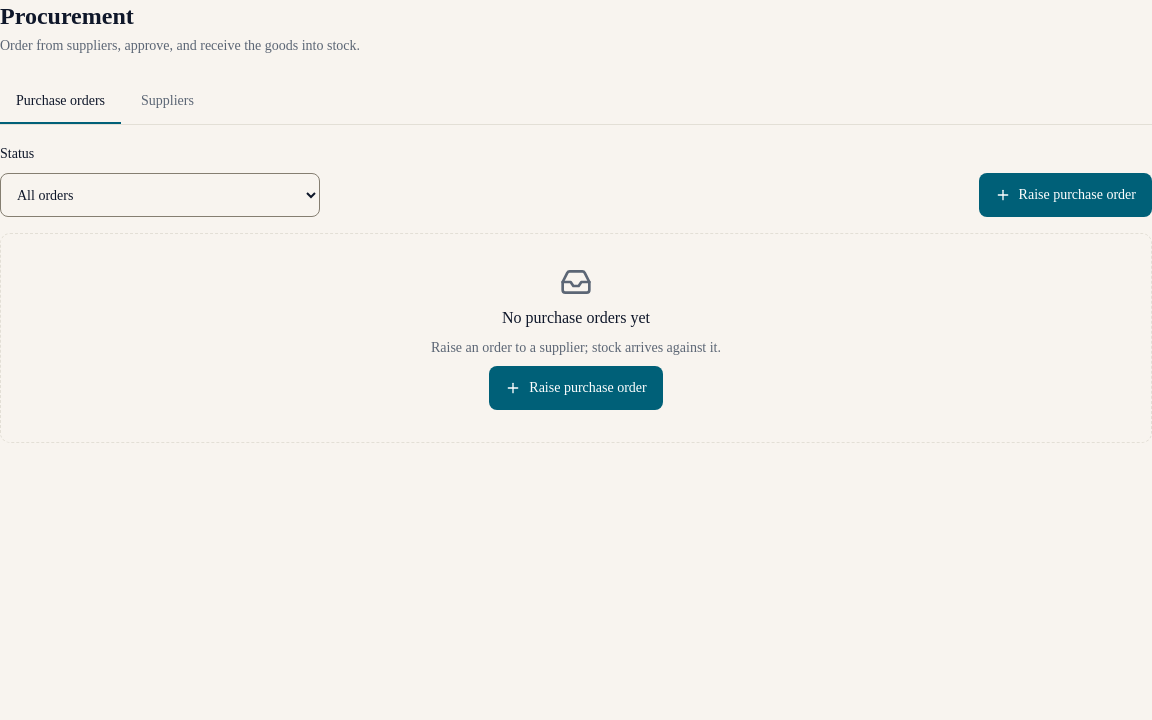
a purchase order, end to end › a supplier can be added from the order form, and is chosen
Click the 1st button "Raise purchase order".
click(1065, 195)  # box [979, 173, 1151, 217]
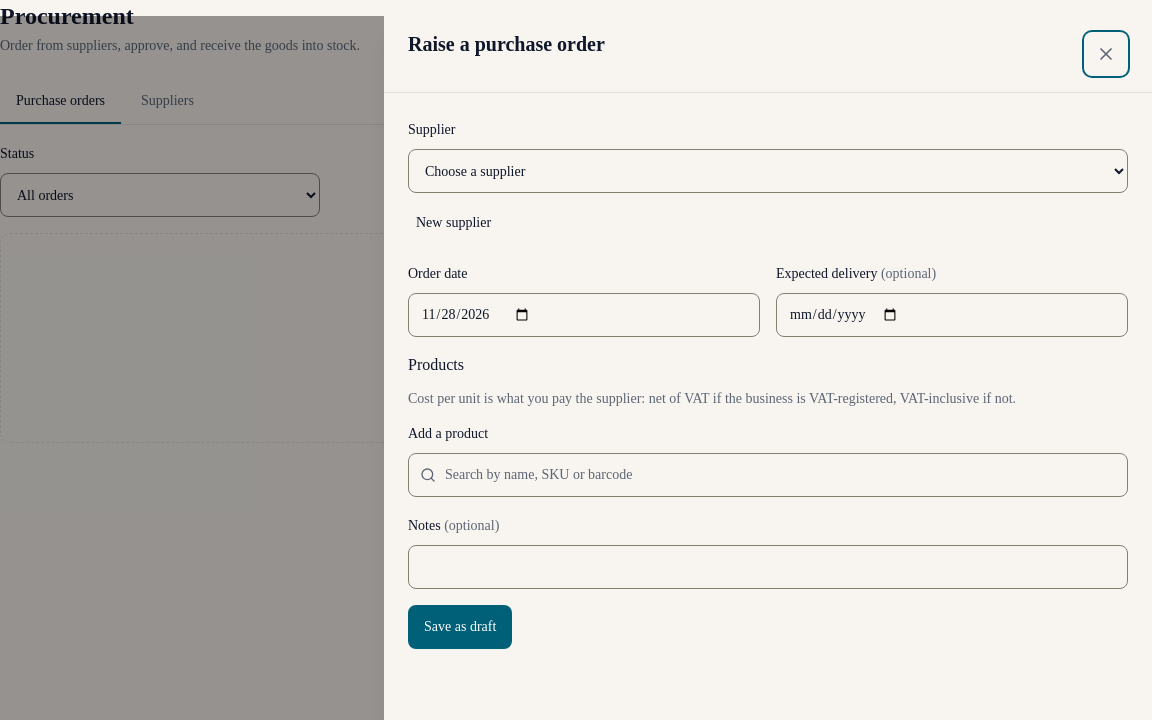
Click the button "New supplier".
click(454, 223)  # box [408, 201, 499, 245]
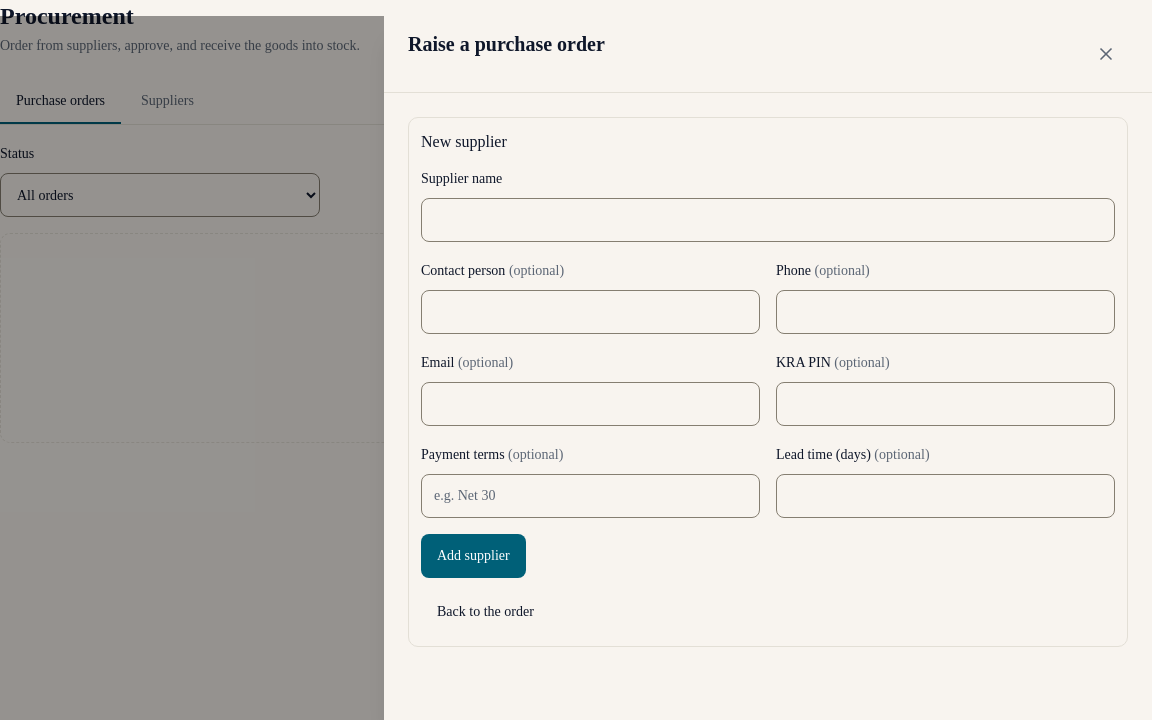
Type "Mabati Rolling Mills" into the field labelled "Supplier name".
click(768, 220); type("Mabati Rolling Mills")  # box [421, 198, 1115, 242]
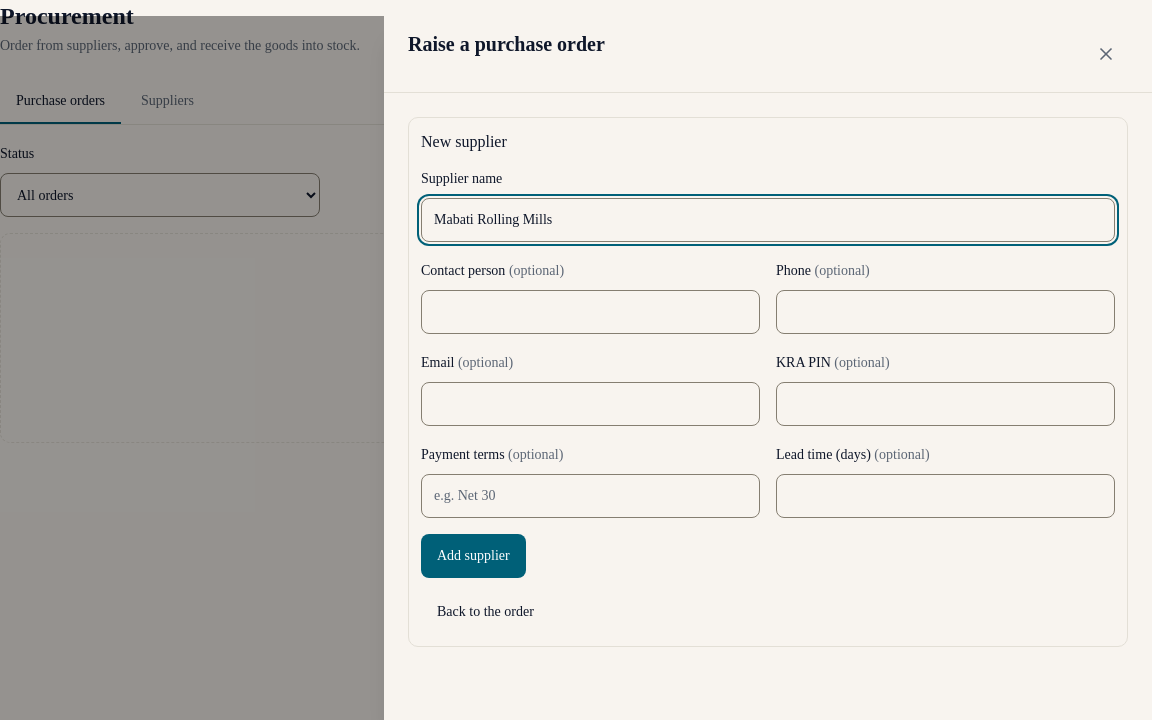
Click the button "Add supplier".
click(473, 556)  # box [421, 534, 526, 578]
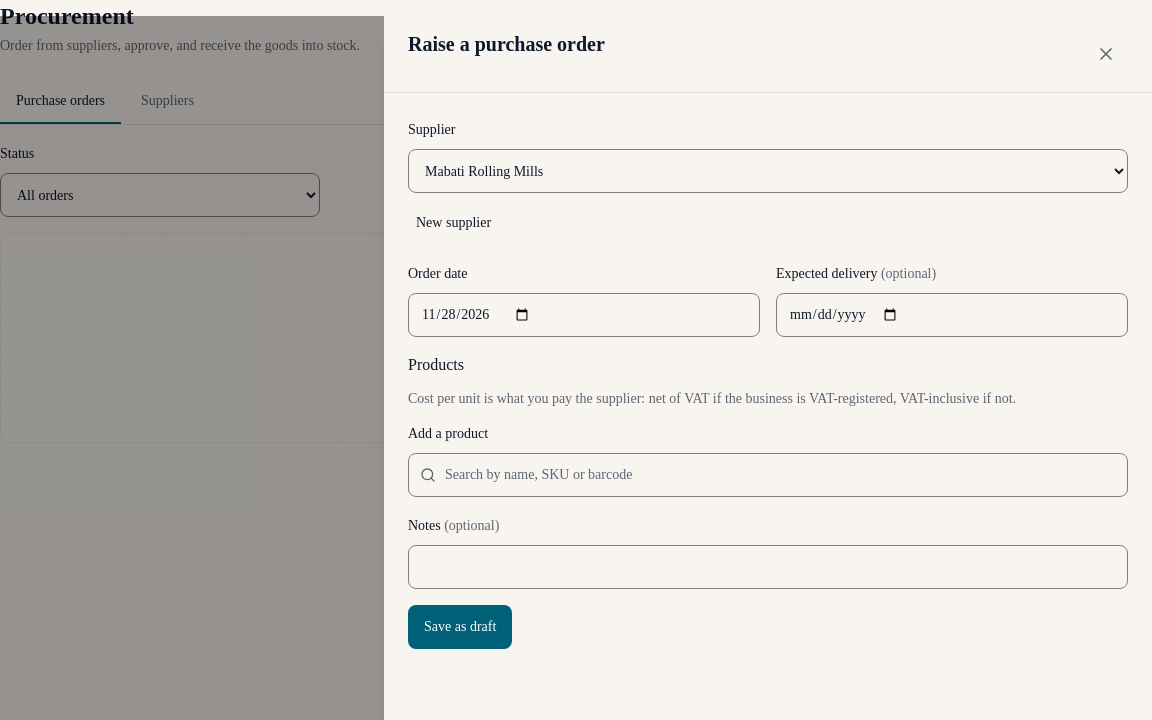
expect the dropdown labelled "Supplier" shows "Mabati Rolling Mills": met, box [408, 149, 1128, 193]
